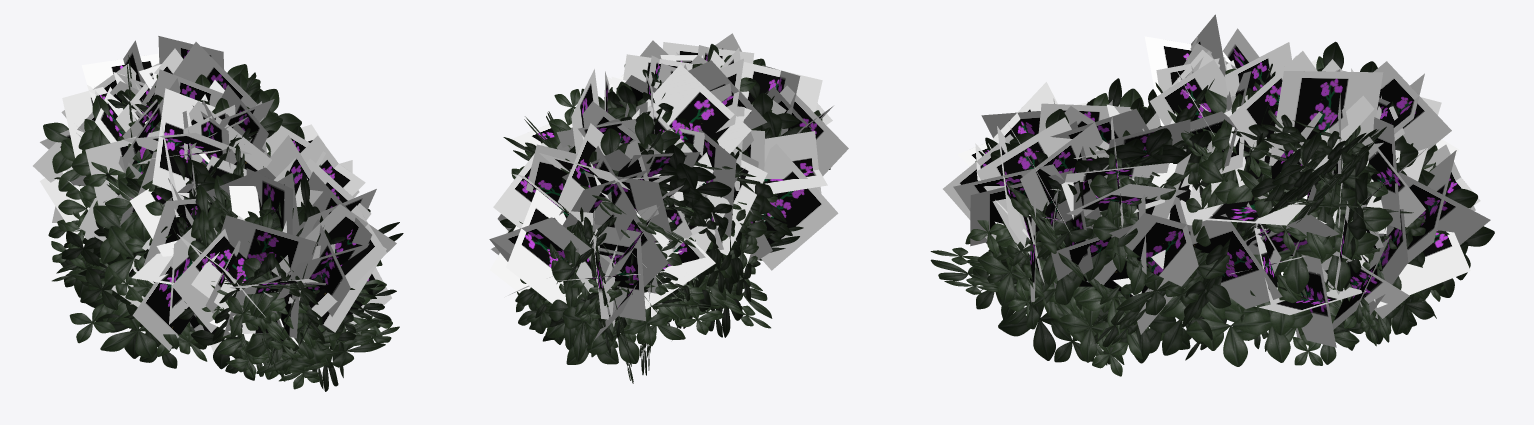
File: Bush Flower .fbx
The picture shows the model from 3 angles, left to right: view 1: azimuth 30°, elevation 25°; view 2: azimuth 150°, elevation 25°; view 3: azimuth 270°, elevation 25°; orthographic projection. The views are drawn at different scales.
Visible parts, largest first — view 1: Lief.001; view 2: Lief.001; view 3: Lief.001.
Part boxes in pixels (<box>): Lief.001: <box>33,36,403,391</box>; Lief.001: <box>489,33,848,383</box>; Lief.001: <box>930,14,1494,376</box>.
Size of the model in its own units: 220 by 214 by 325.
